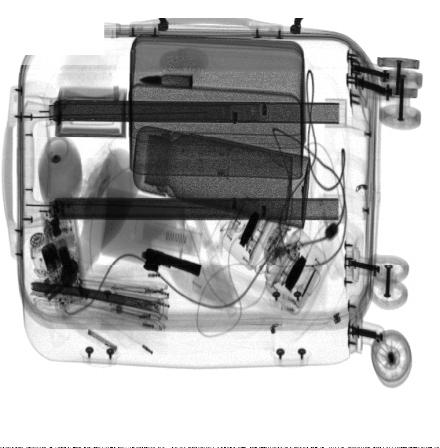Bullet: (138, 74, 193, 89)
Gun: (141, 247, 202, 278)
